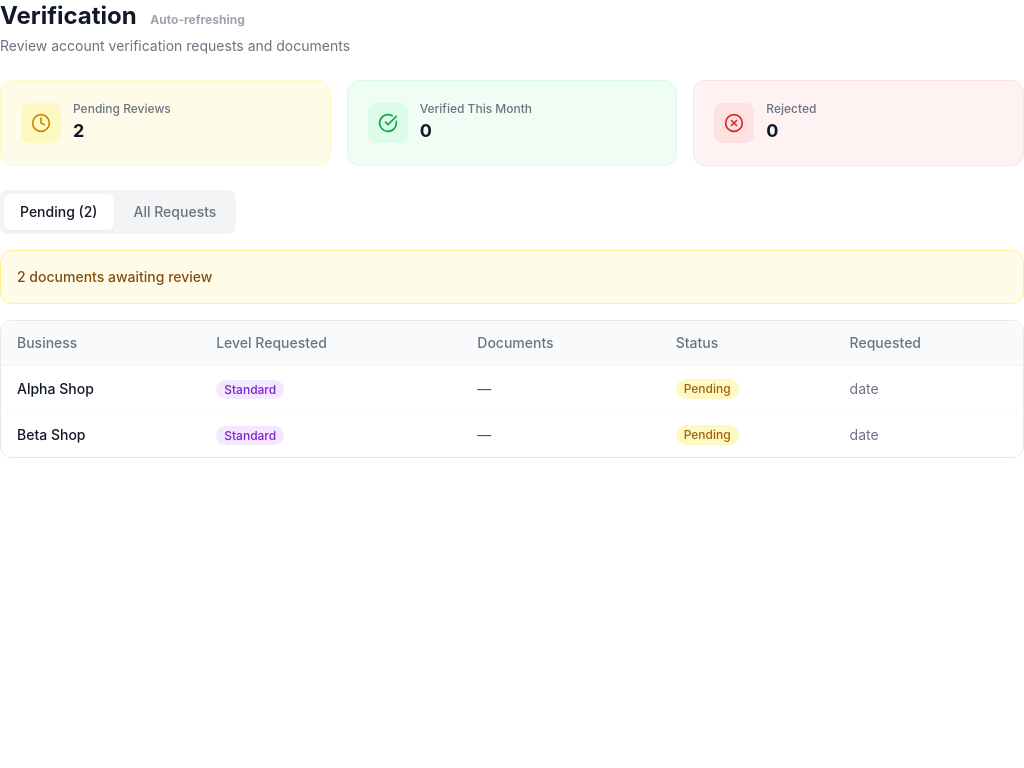
it: Verification actual mounted review and MFA flow › approve binds fields/documents and reads persisted result after rotated token
The image size is (1024, 768).
Click the text "Alpha Shop" at (55, 388), box [1,366,200,412]
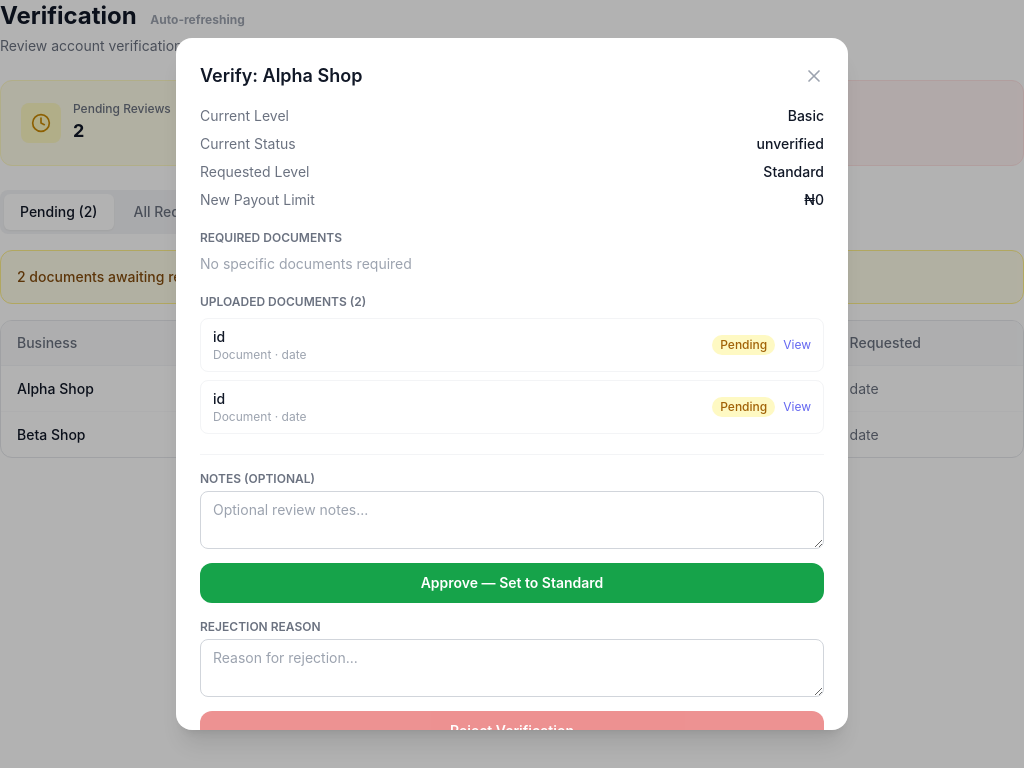
Type "  Notes  " into the text box labelled "review notes" at (512, 520), box [200,491,824,549]
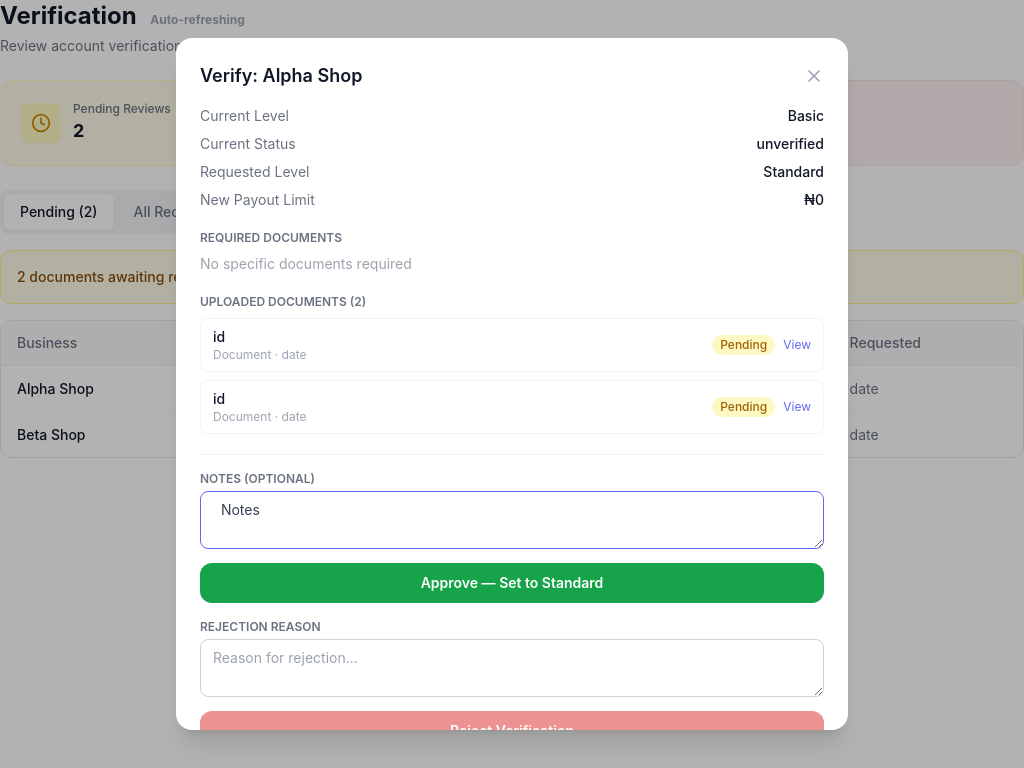
Click the button "Approve — Set to Standard" at (512, 583), box [200,563,824,603]
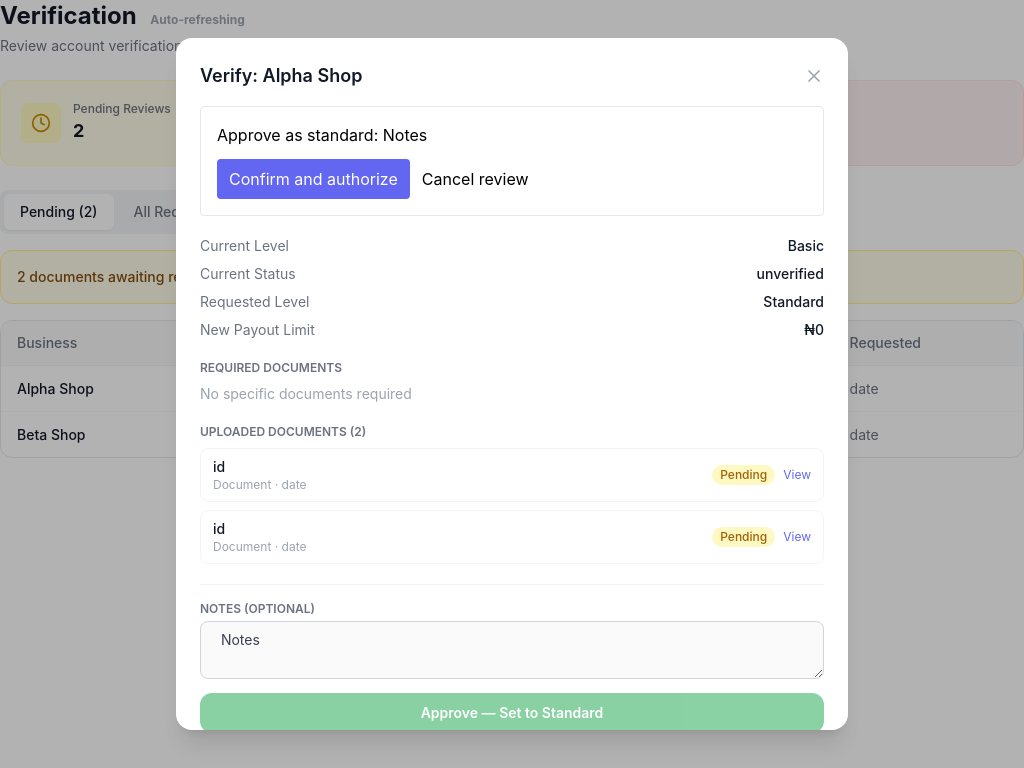
Click the button "Confirm and authorize" at (313, 179), box [217,159,410,199]
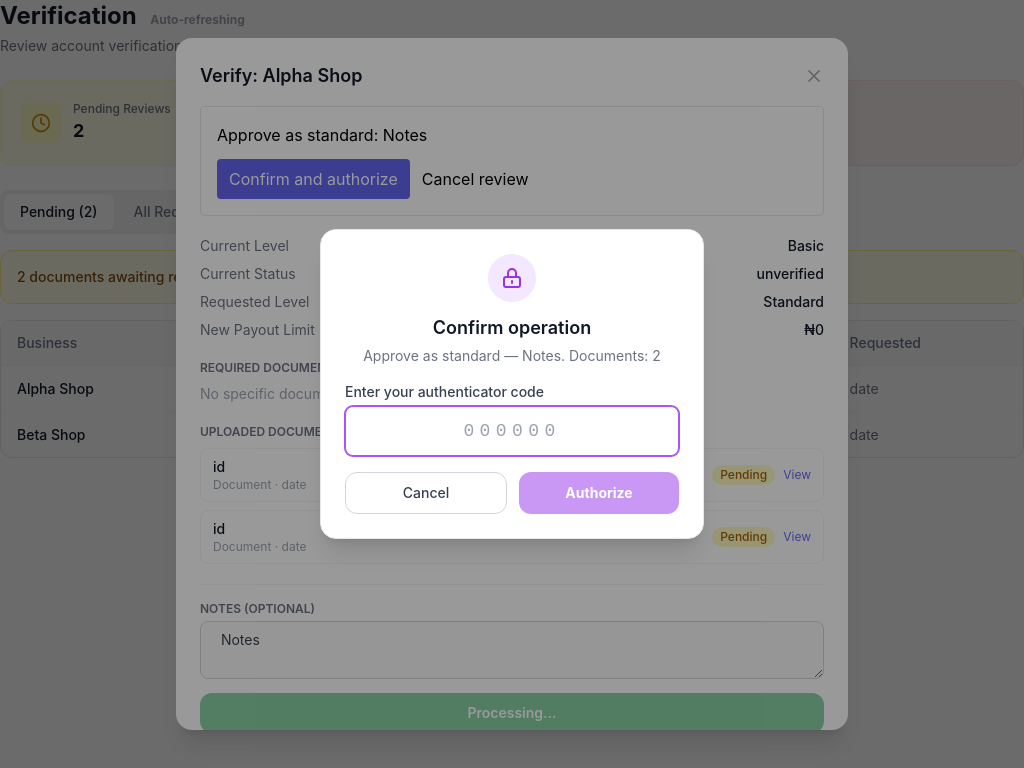
Now the text box named "review notes" is disabled, box [200,621,824,679]
Now the field with placeholder "000000" is shown
Type "123456" into the field with placeholder "000000" at (512, 431), box [345,406,679,456]
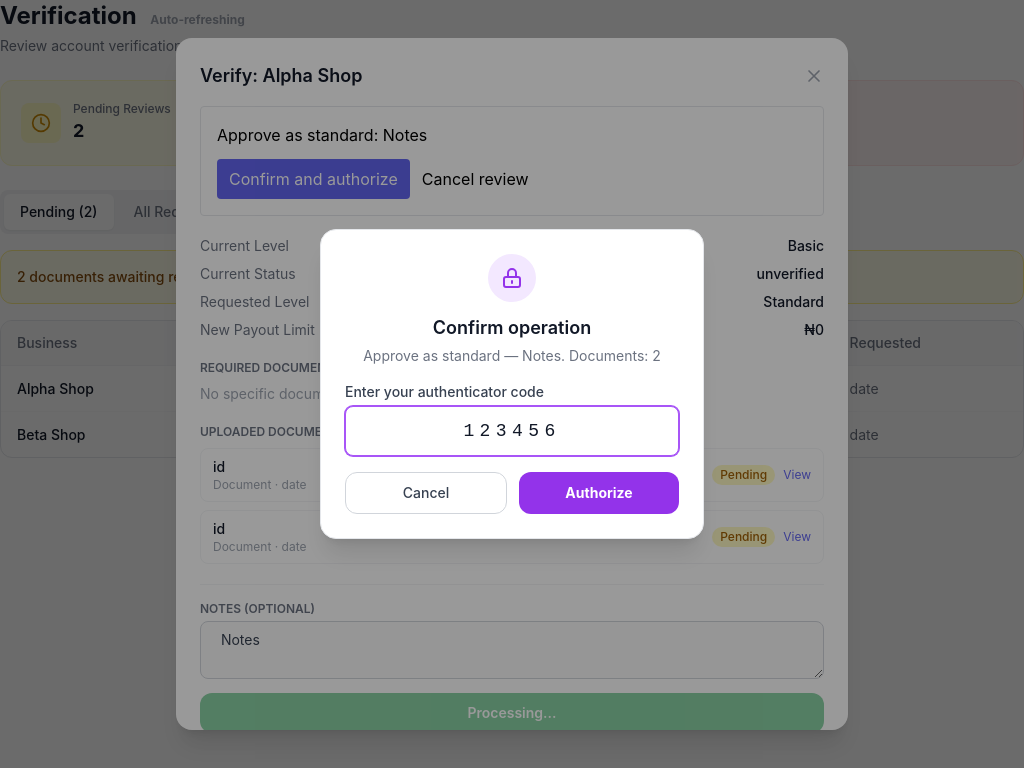
Click the button "Authorize" at (599, 493), box [519,472,679,514]
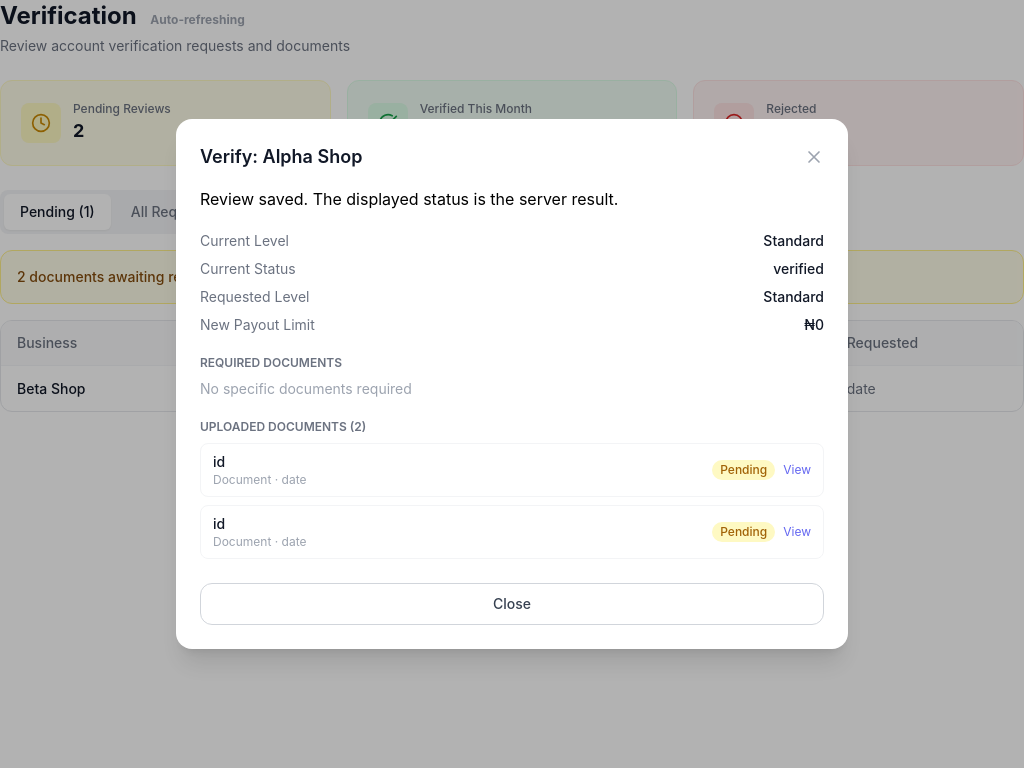
Expected: the button "Reject Verification" is not shown
Now the text "Review saved. The displayed status is the server result." is shown, box [200,189,618,209]
